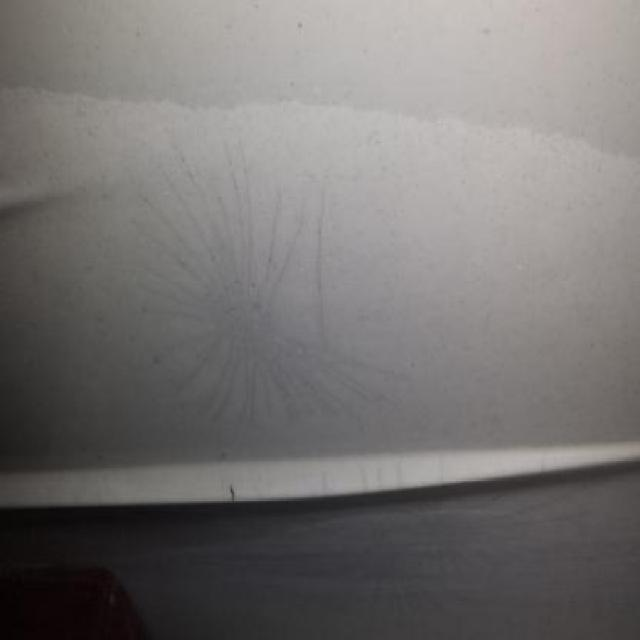crack: (132, 141, 410, 423), (313, 187, 327, 336)
